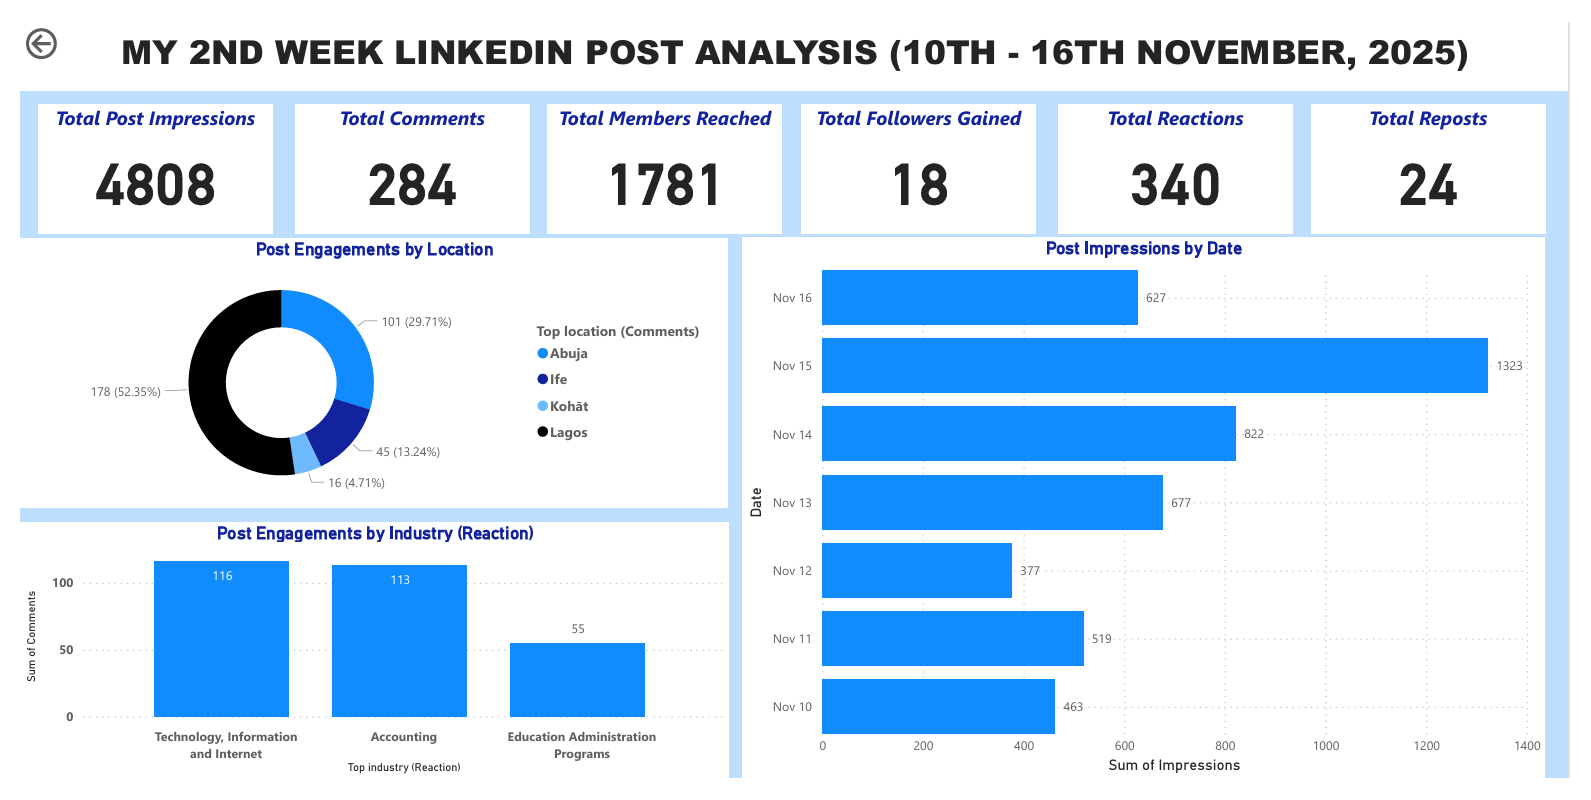

The page's visual inventory and layout, read from the dashboard file:
{"tool":"powerbi","page":{"name":"PAGE 3","canvas":[1500,732],"ordinal":2},"visuals":[{"type":"textbox","box":[0,0,1500.6,64.6],"z":0},{"type":"card","title":"Total Post Impressions","fields":{"Values":["Sum(POST IMPRESSIONS.Impressions)"]},"box":[16.6,79.4,227,125.5],"z":1000},{"type":"card","title":"Total Comments","fields":{"Values":["Sum(POST IMPRESSIONS.Comments)"]},"box":[265.8,79.4,227,125.5],"z":2000},{"type":"card","title":"Total Members Reached","fields":{"Values":["Sum(POST IMPRESSIONS.Members reached)"]},"box":[511.3,79.4,227,125.5],"z":3000},{"type":"card","title":"Total Followers Gained","fields":{"Values":["Sum(POST IMPRESSIONS.Followers gained from this post)"]},"box":[756.8,79.4,227,125.5],"z":4000},{"type":"card","title":"Total Reactions","fields":{"Values":["Sum(POST IMPRESSIONS.Reactions)"]},"box":[1006,79.4,227,125.5],"z":5000},{"type":"card","title":"Total Reposts","fields":{"Values":["Sum(POST IMPRESSIONS.Reposts)"]},"box":[1251.5,79.4,227,125.5],"z":6000},{"type":"donutChart","title":"Post Engagements by Location ","fields":{"Y":["Sum(POST IMPRESSIONS.Reactions)"],"Series":["POST IMPRESSIONS.Top location (Comments)"]},"box":[0,208.9,685.9,261.5],"z":7000},{"type":"columnChart","title":"Post Engagements by Industry (Reaction)","fields":{"Category":["POST IMPRESSIONS.Top industry (Reaction)"],"Y":["Sum(POST IMPRESSIONS.Comments)"]},"box":[0,483.6,686.6,249.2],"z":8000},{"type":"actionButton","box":[0,0,100,40],"z":9000},{"type":"barChart","title":"Post Impressions by Date","fields":{"Category":["DEMOGRAPHICS.Date"],"Y":["Sum(POST IMPRESSIONS.Impressions)"]},"box":[699.6,207.8,778.9,524.2],"z":10000}]}

Visuals, with their boxes in screenshot pixels (x1, y1, x2, y2), scaled from the page's 1500x732 canvas onto the 1591x800 screenshot:
textbox: <region>0, 0, 1590, 71</region>
"Total Post Impressions" card: <region>18, 87, 258, 224</region>
"Total Comments" card: <region>282, 87, 523, 224</region>
"Total Members Reached" card: <region>542, 87, 783, 224</region>
"Total Followers Gained" card: <region>803, 87, 1043, 224</region>
"Total Reactions" card: <region>1067, 87, 1308, 224</region>
"Total Reposts" card: <region>1327, 87, 1568, 224</region>
"Post Engagements by Location " donutChart: <region>0, 228, 728, 514</region>
"Post Engagements by Industry (Reaction)" columnChart: <region>0, 529, 728, 799</region>
actionButton: <region>0, 0, 106, 44</region>
"Post Impressions by Date" barChart: <region>742, 227, 1568, 799</region>
